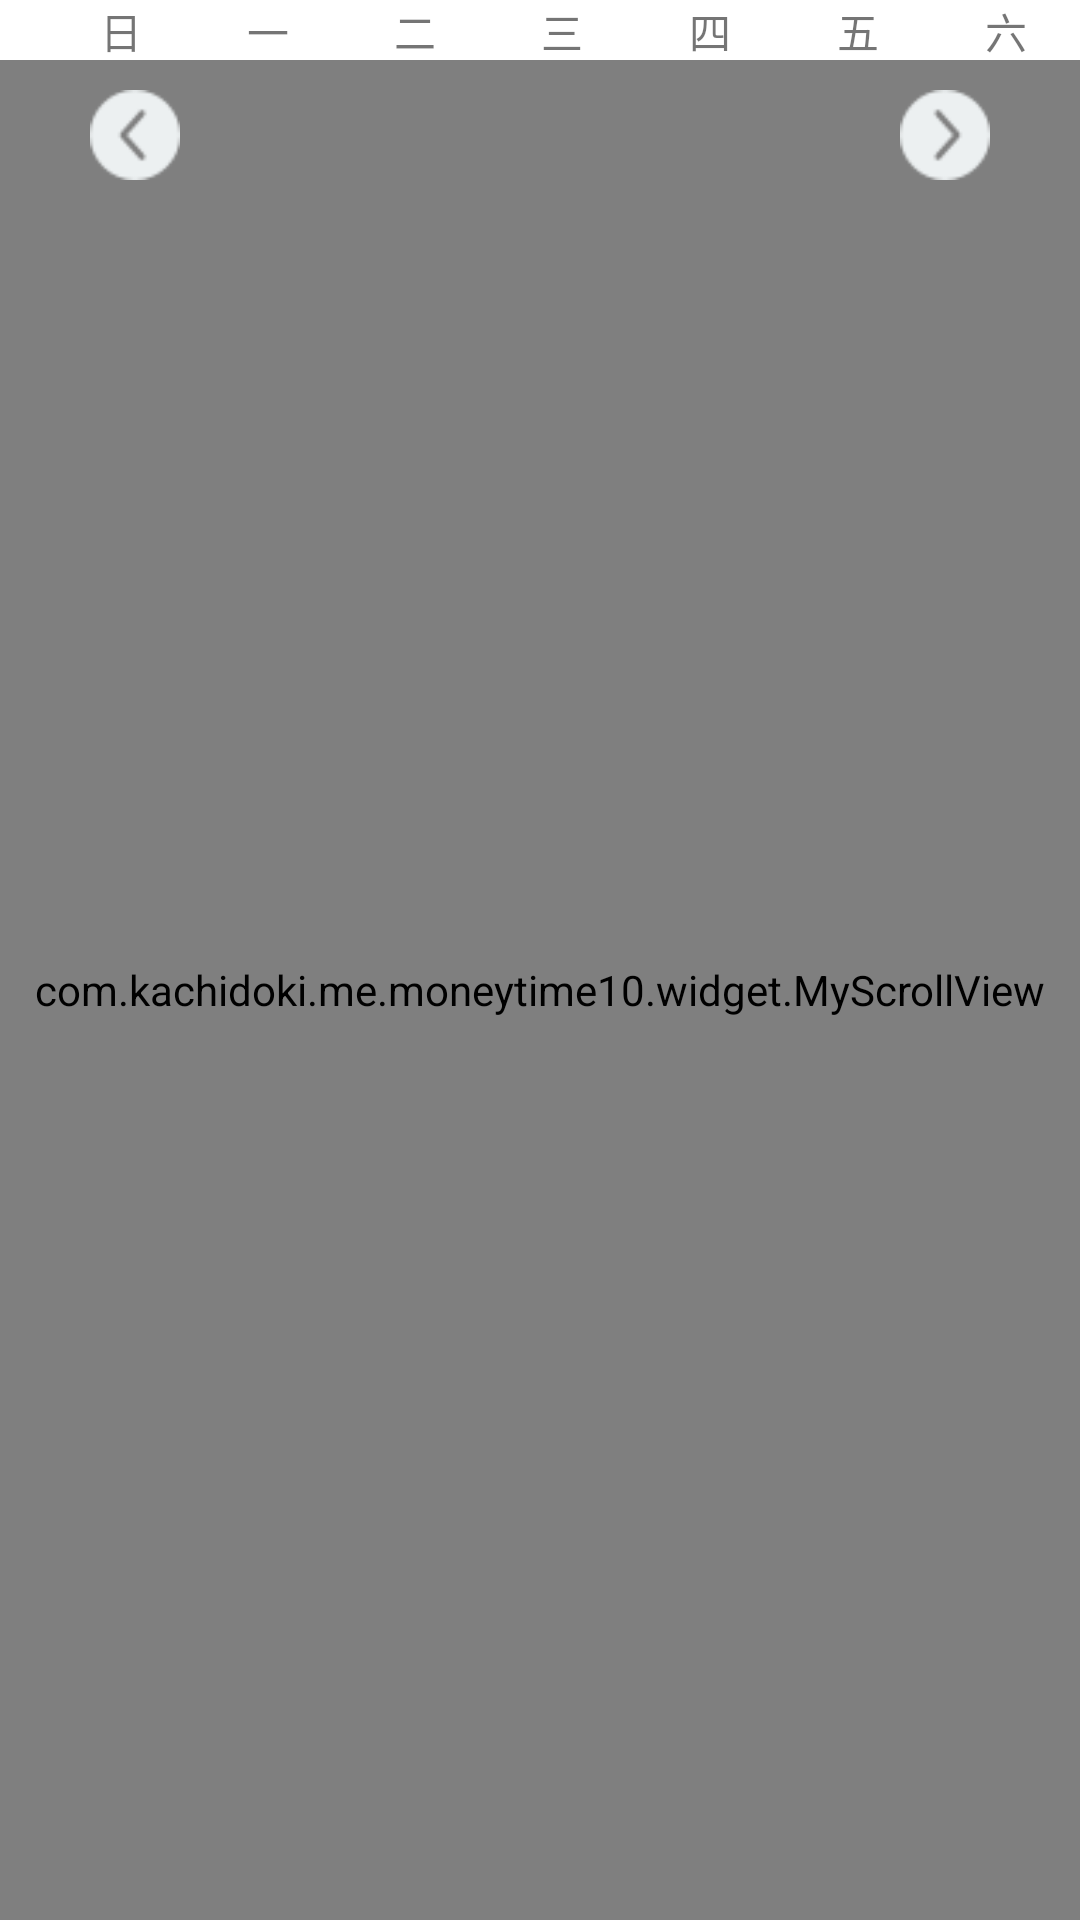

Named icons in this screenshot (1080w x 1920h) and their centers, [x,y]:
left: [135,135]
right: [945,135]
